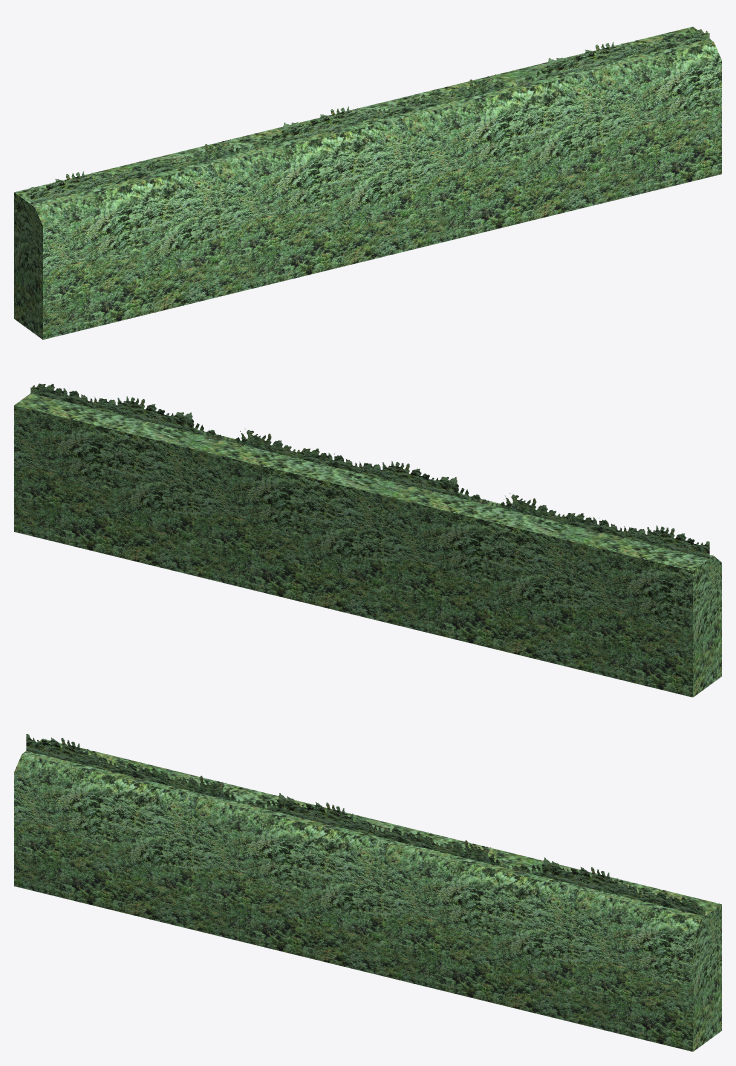
File: Evergreen.fbx
3 views of the same model, one above another, from view 1: azimuth 30°, elevation 25°; view 2: azimuth 150°, elevation 25°; view 3: azimuth 330°, elevation 25° (orthographic).
Parts seen in each view (by area): view 1: Evergreen; view 2: Evergreen; view 3: Evergreen.
Part boxes in pixels (x1,y1,x2,y2): Evergreen: (14, 26, 721, 339); Evergreen: (14, 383, 721, 697); Evergreen: (14, 734, 721, 1051).
Bounding box in the file's own units: 885 × 188 × 65.23.
